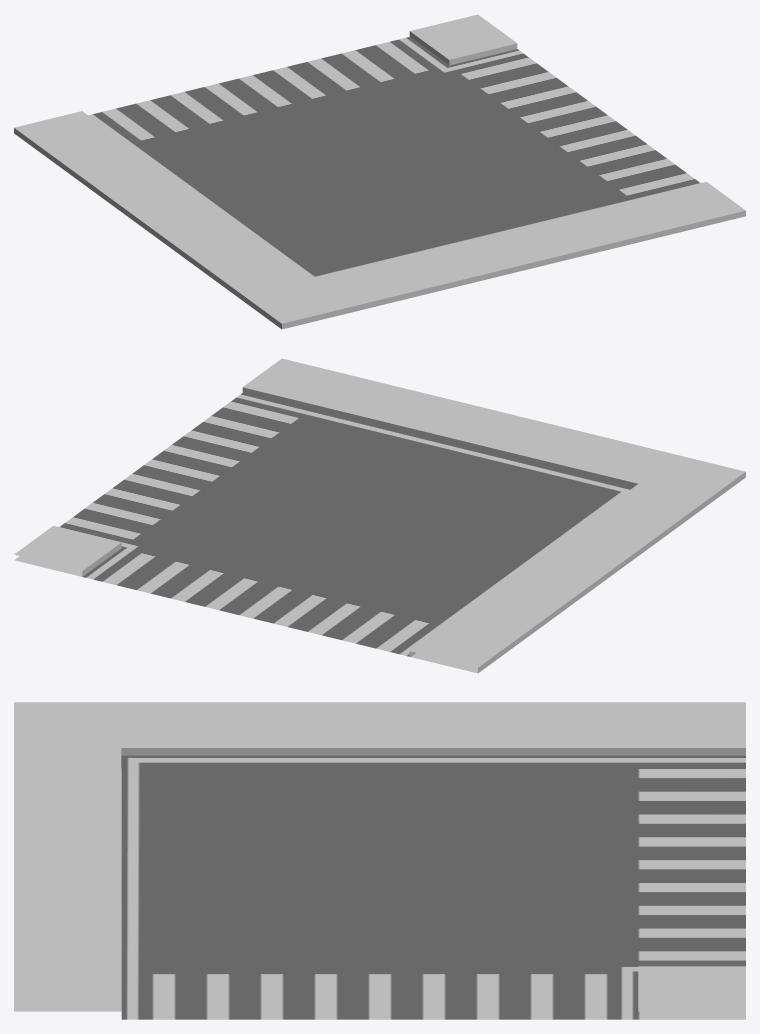
File: Corner.fbx
3 renders of one model, top to bottom at view 1: azimuth 30°, elevation 25°; view 2: azimuth 150°, elevation 25°; view 3: azimuth 270°, elevation 25°, orthographic. The views are drawn at different scales.
Visible parts, largest first — view 1: Corner; view 2: Corner; view 3: Corner.
Boxes of the visible parts, box(x1,y1,x2,y2) form: Corner: box(14, 14, 745, 329); Corner: box(14, 358, 745, 673); Corner: box(14, 702, 745, 1019).
Bounding box in the file's own units: 1700 × 20 × 1700.
